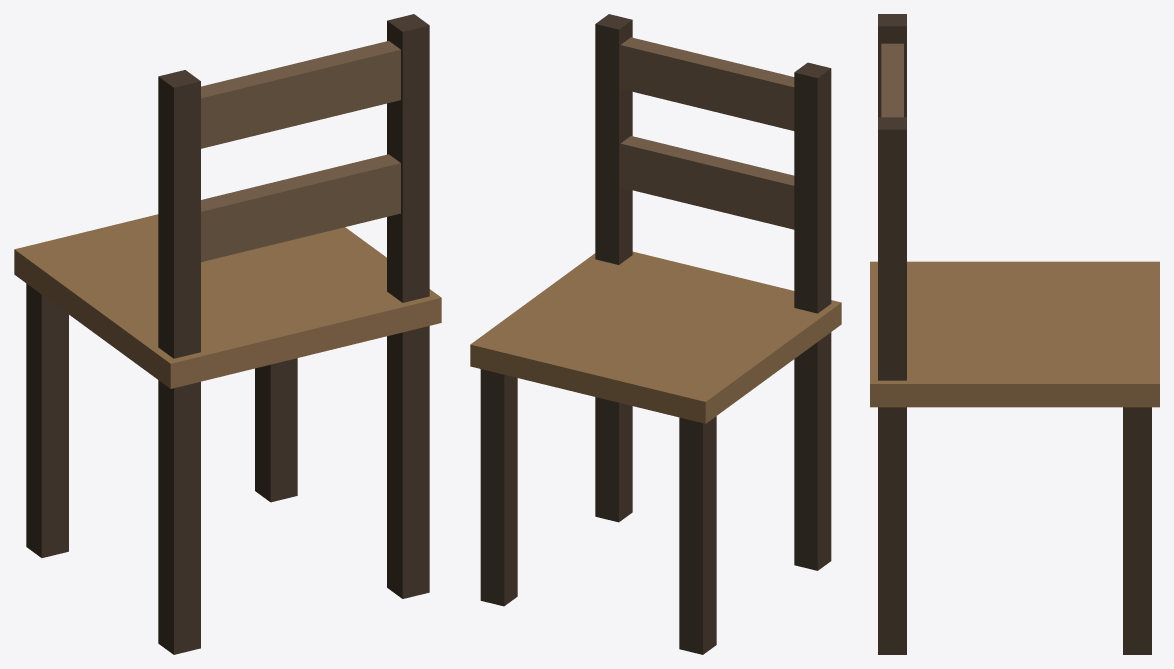
The model's file is int_chair.glb.
3 views of the same model, side by side, from view 1: azimuth 30°, elevation 25°; view 2: azimuth 150°, elevation 25°; view 3: azimuth 270°, elevation 25° (orthographic). The views are drawn at different scales.
Parts seen in each view (by area): view 1: int_chair; view 2: int_chair; view 3: int_chair.
Boxes of the visible parts, x1,y1,x2,y2 form: int_chair: [14, 14, 441, 654]; int_chair: [470, 14, 841, 654]; int_chair: [870, 14, 1159, 654].
Size of the model in its own units: 0.45 by 0.9 by 0.45.
1 material, 1 textured.
